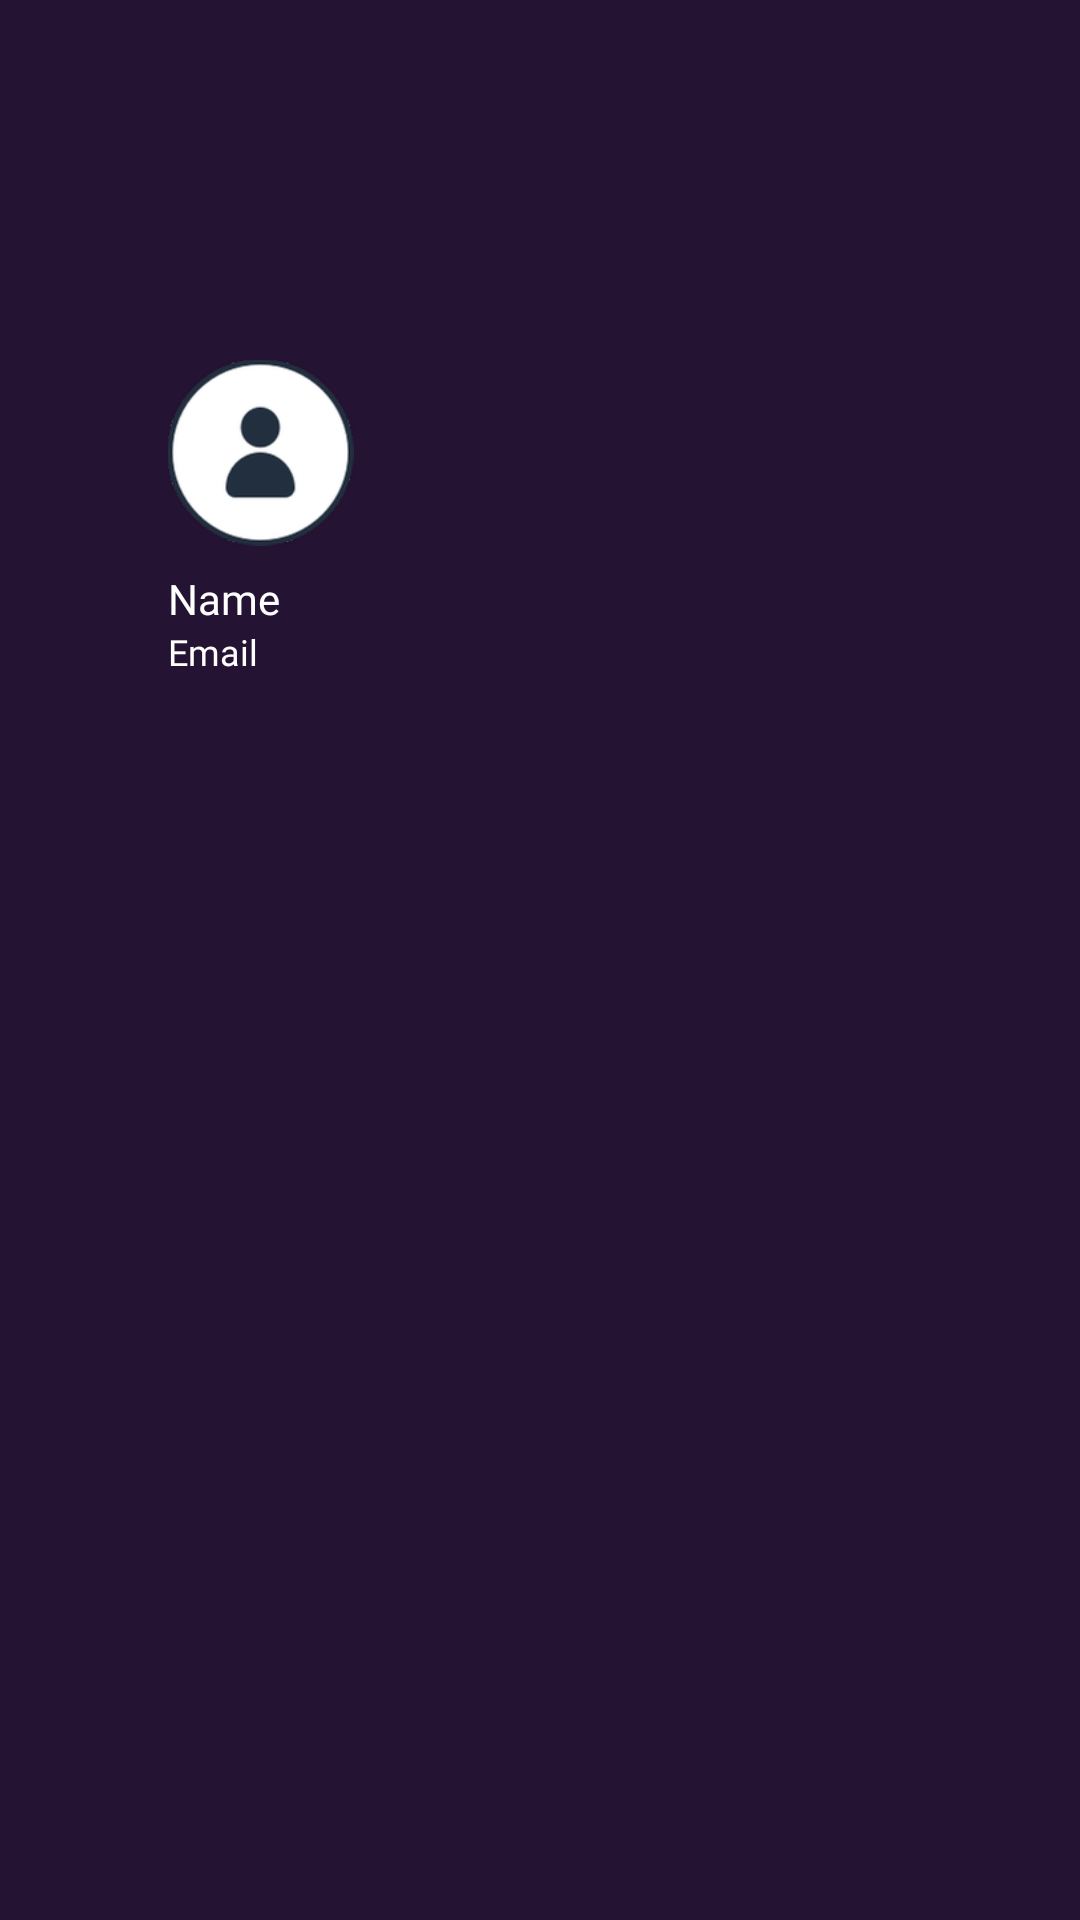

Where to tap for icons on this 1080w x 1920h app screen, as (x,y):
more my profile: (261,453)
